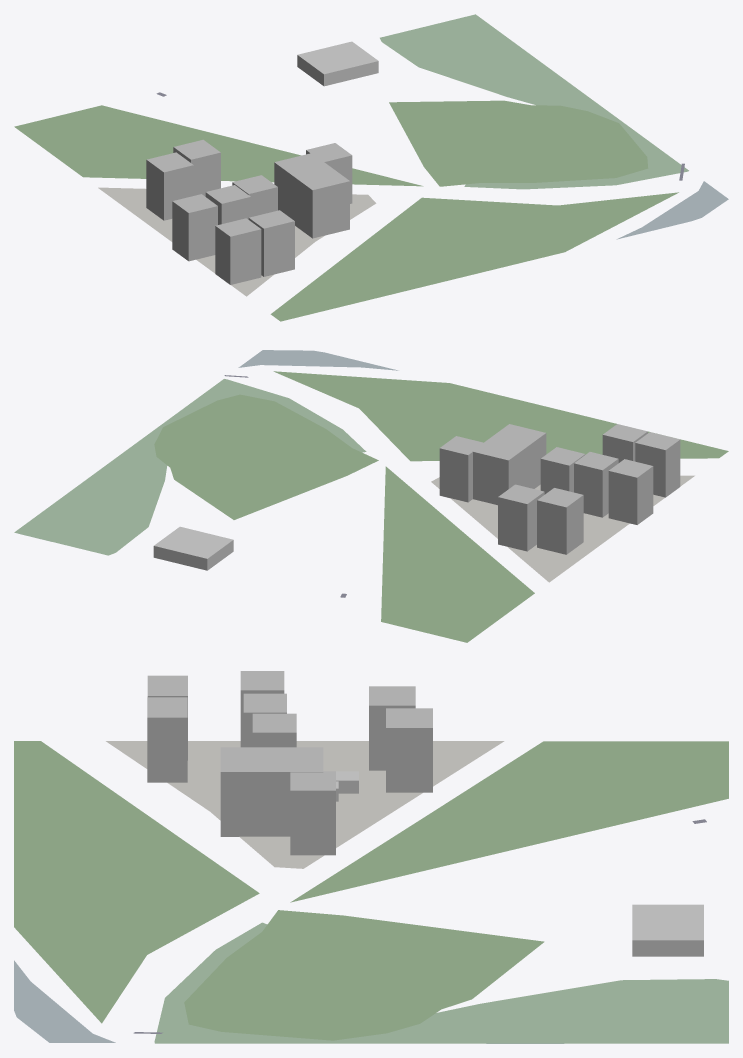
Rendered from 113_116_mid.glb.
The picture shows the model from 3 angles, top to bottom: view 1: azimuth 30°, elevation 25°; view 2: azimuth 150°, elevation 25°; view 3: azimuth 270°, elevation 25°; orthographic projection. The views are drawn at different scales.
Size of the model in its own units: 508 by 50.78 by 500.
